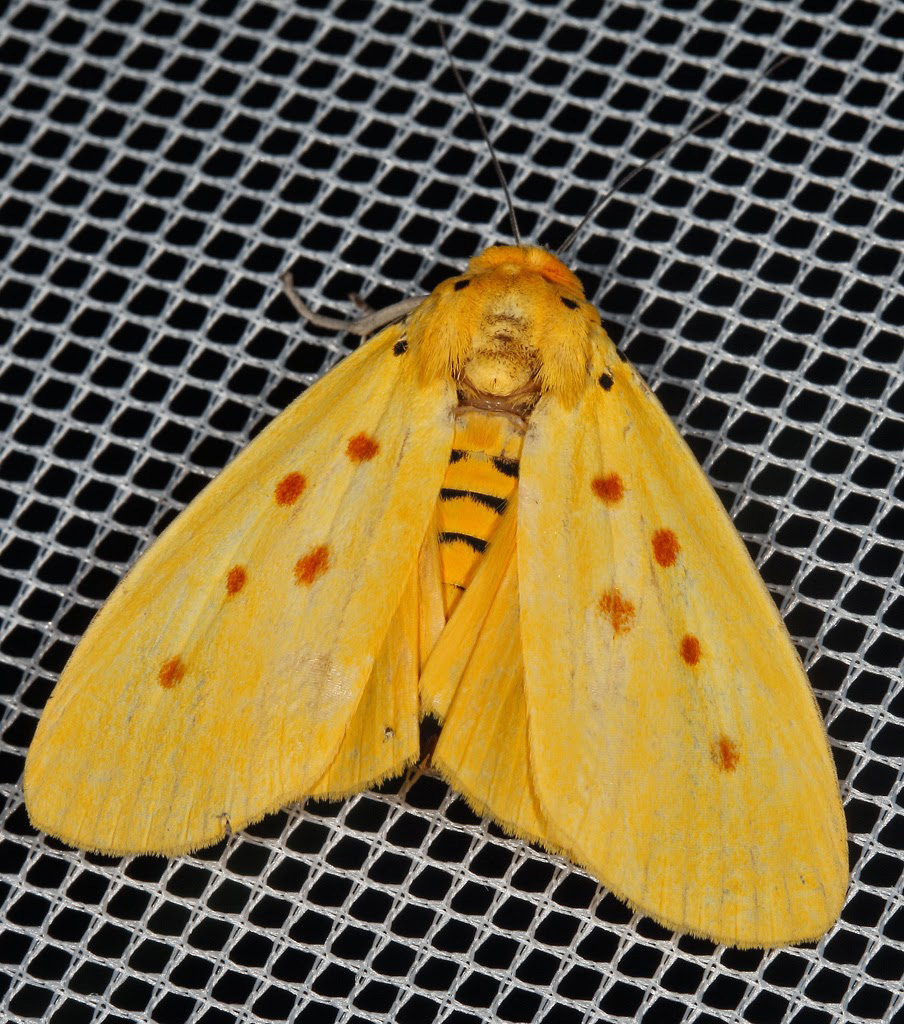Agape chloropyga: (13, 20, 853, 950)
moth: (15, 22, 855, 952)
